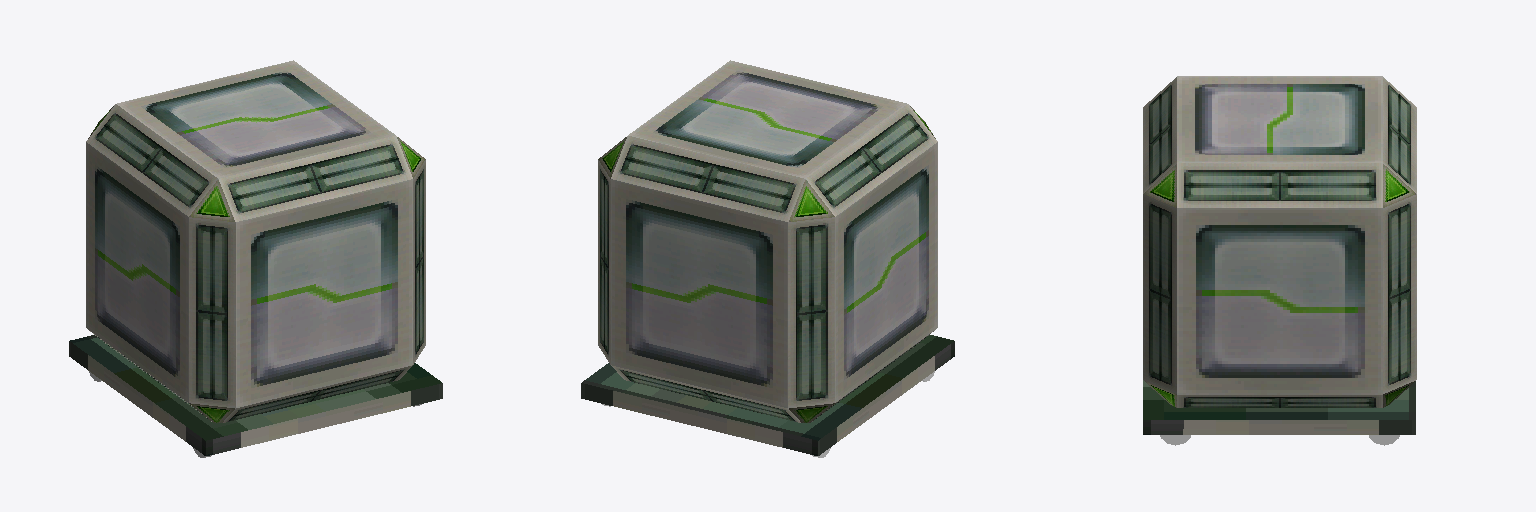
The picture shows the model from 3 angles: view 1: azimuth 30°, elevation 25°; view 2: azimuth 150°, elevation 25°; view 3: azimuth 270°, elevation 25°; orthographic projection.
Parts seen in each view (by area): view 1: polygon0; view 2: polygon0; view 3: polygon0.
Part boxes in pixels (bbox=[...]): polygon0: bbox=[69, 60, 442, 455]; polygon0: bbox=[581, 60, 954, 455]; polygon0: bbox=[1143, 76, 1416, 434].
Size of the model in its own units: 15.75 by 17.31 by 15.75.
2 materials, 1 textured.